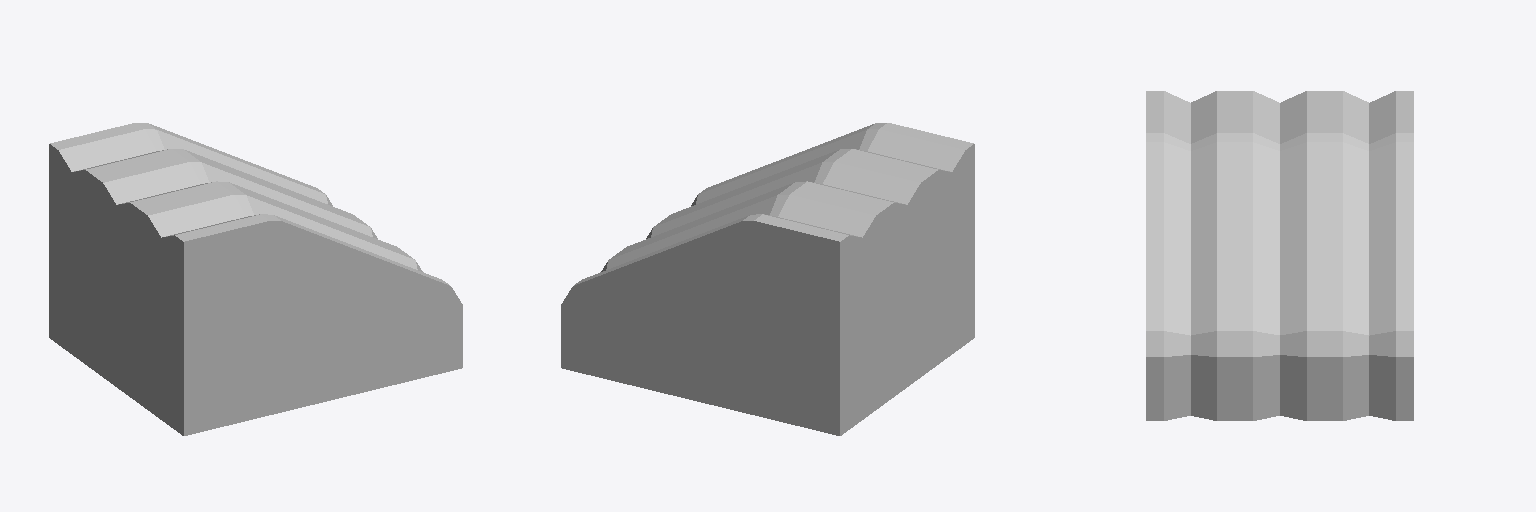
The model's file is Spacestation_Structure_Ribbed_Straight.obj.
3 renders of one model, left to right at view 1: azimuth 30°, elevation 25°; view 2: azimuth 150°, elevation 25°; view 3: azimuth 270°, elevation 25°, orthographic.
Visible parts, largest first — view 1: object1; view 2: object1; view 3: object1.
Part boxes in pixels (left/top/right/bottom): object1: left=49, top=123, right=462, bottom=435; object1: left=561, top=123, right=974, bottom=435; object1: left=1146, top=91, right=1413, bottom=420.
Bounding box in the file's own units: 1.2 × 0.8 × 1.